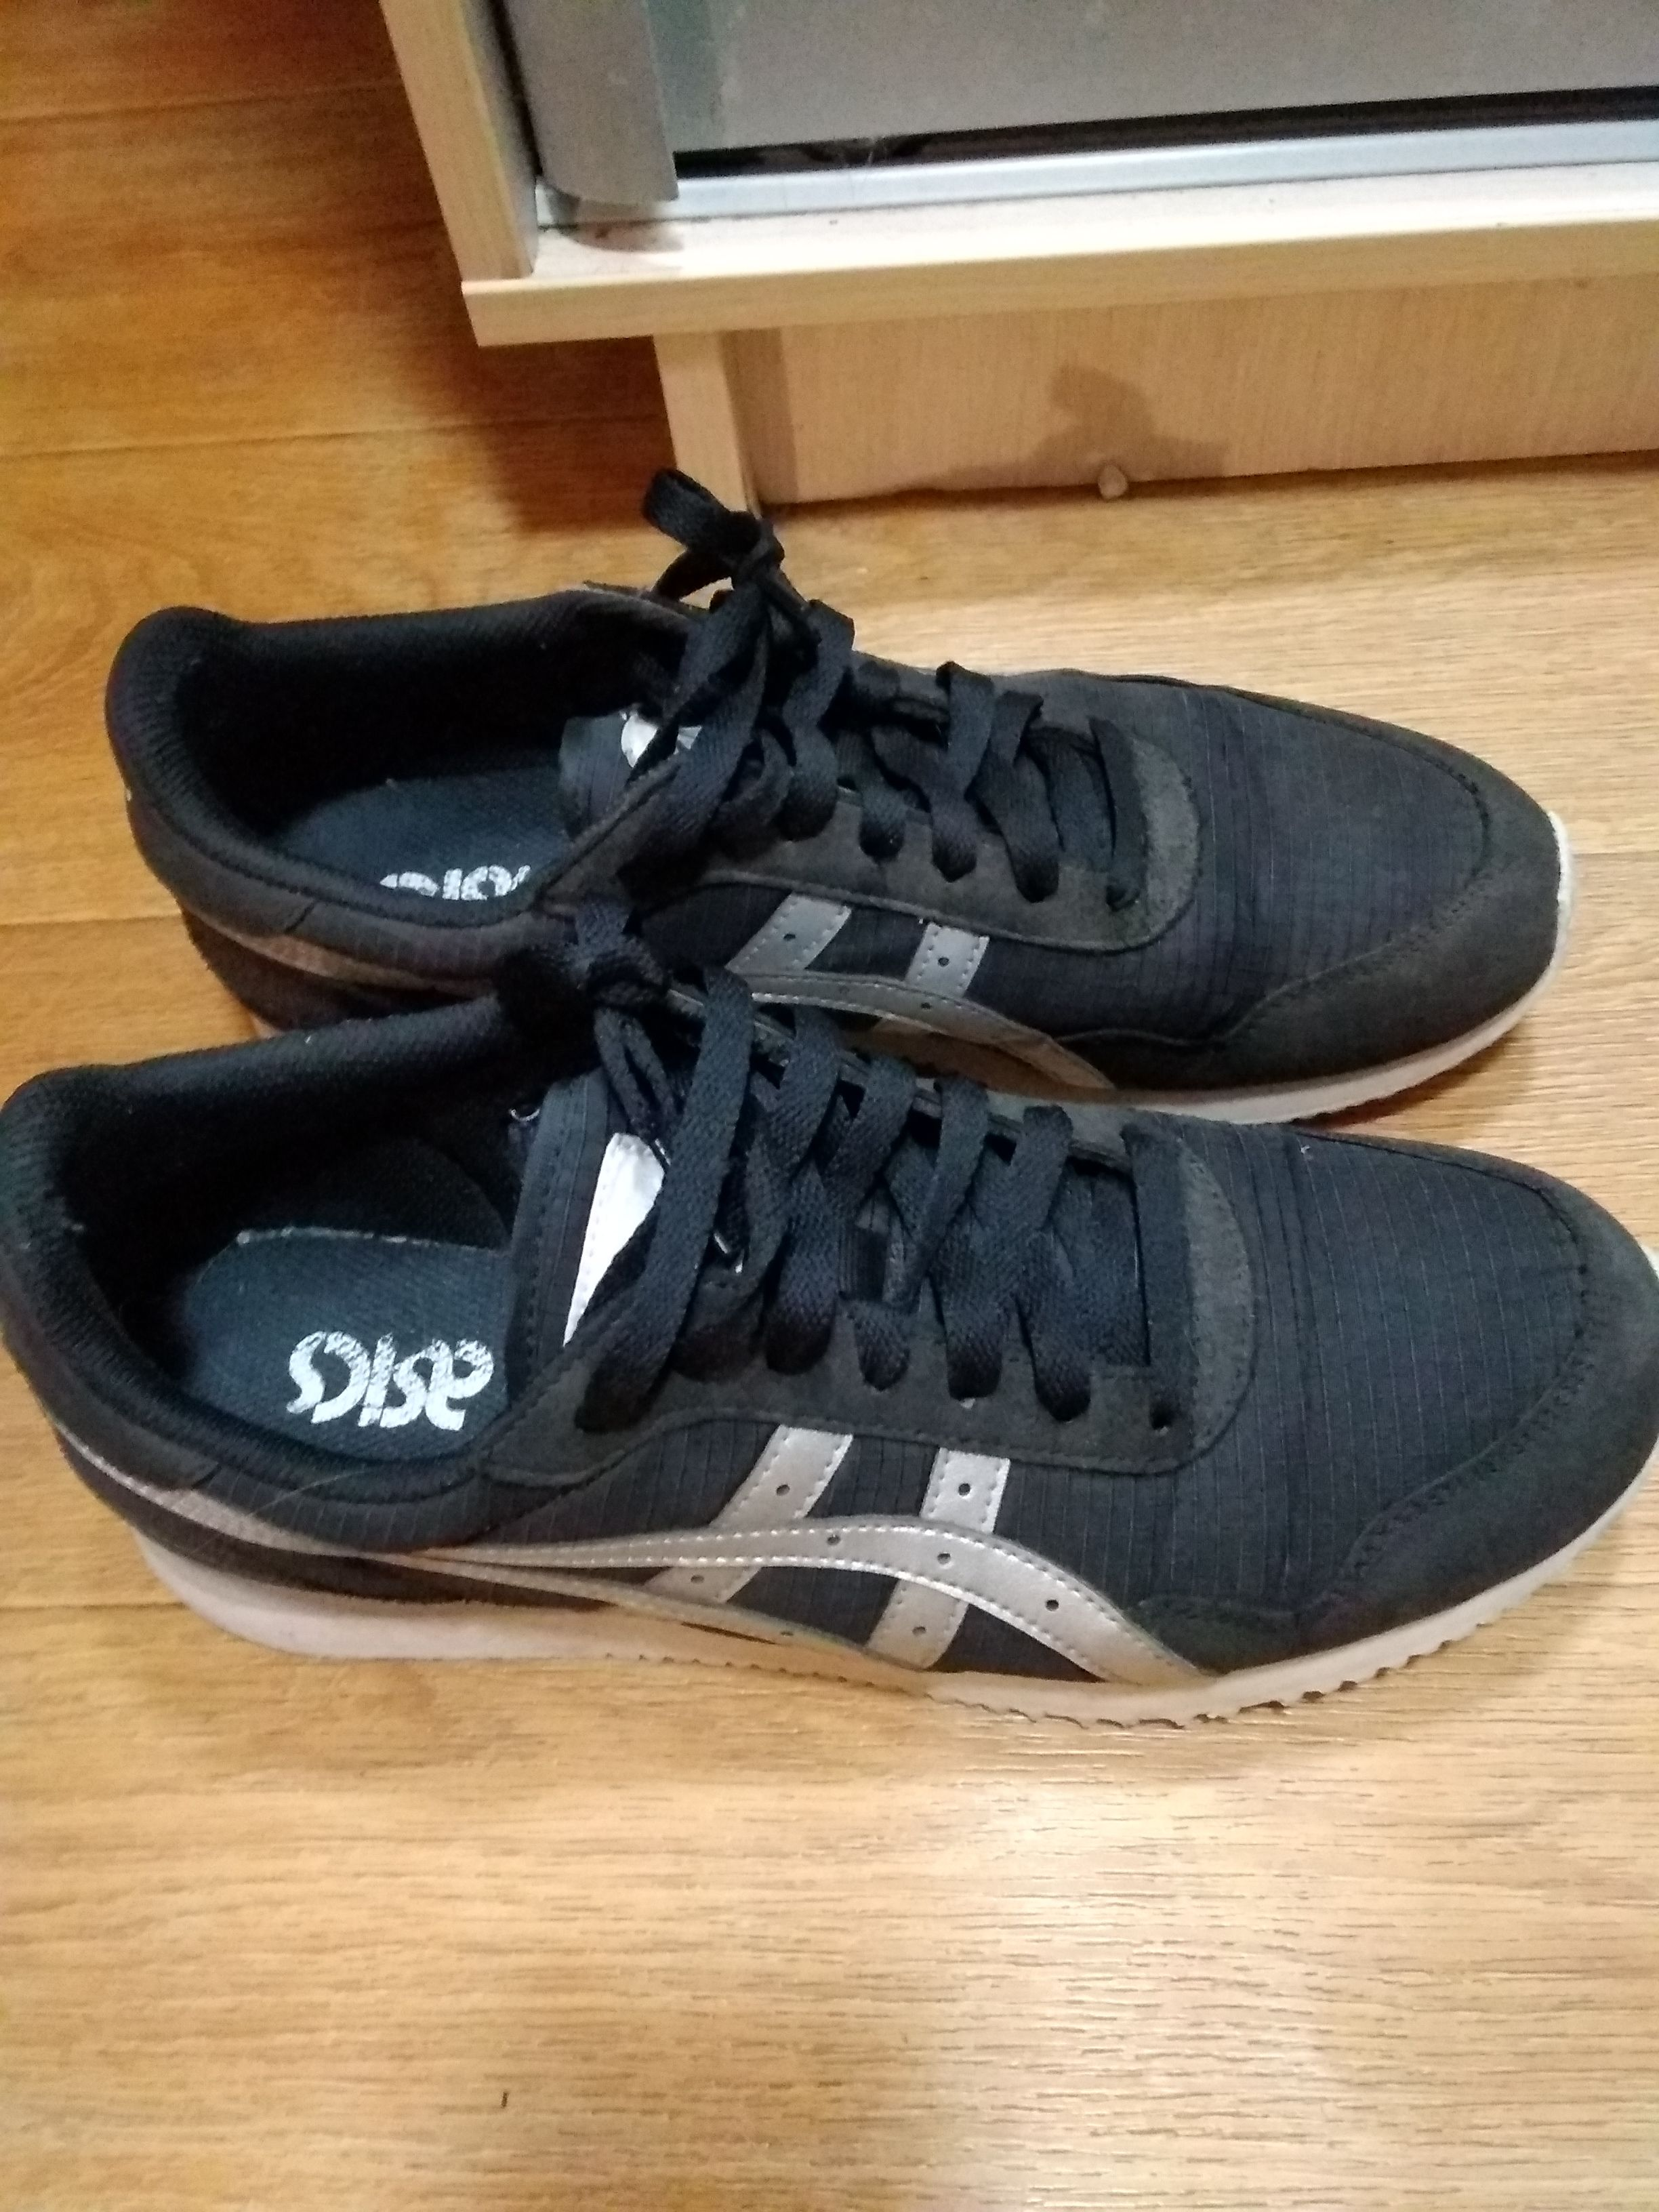clothes: (0, 580, 1591, 1740)
